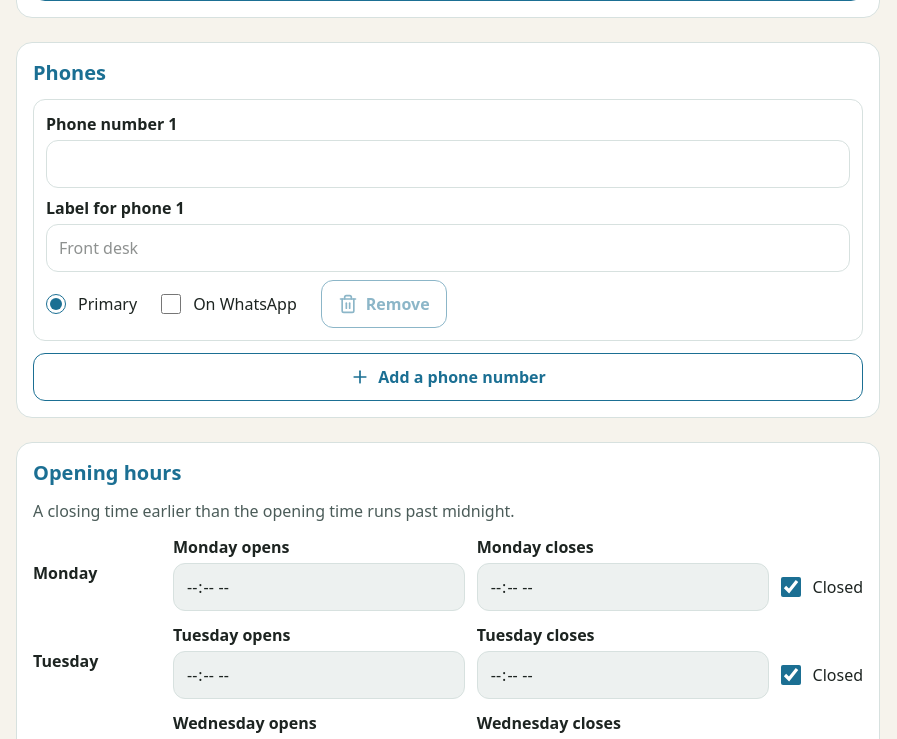
Test case: phones, services and the position › adds and removes phone rows, keeps one row, and moves the primary mark to the chosen row
(page scrolled)
Click the button "Add a phone number".
click(448, 377)  # box [33,353,863,401]
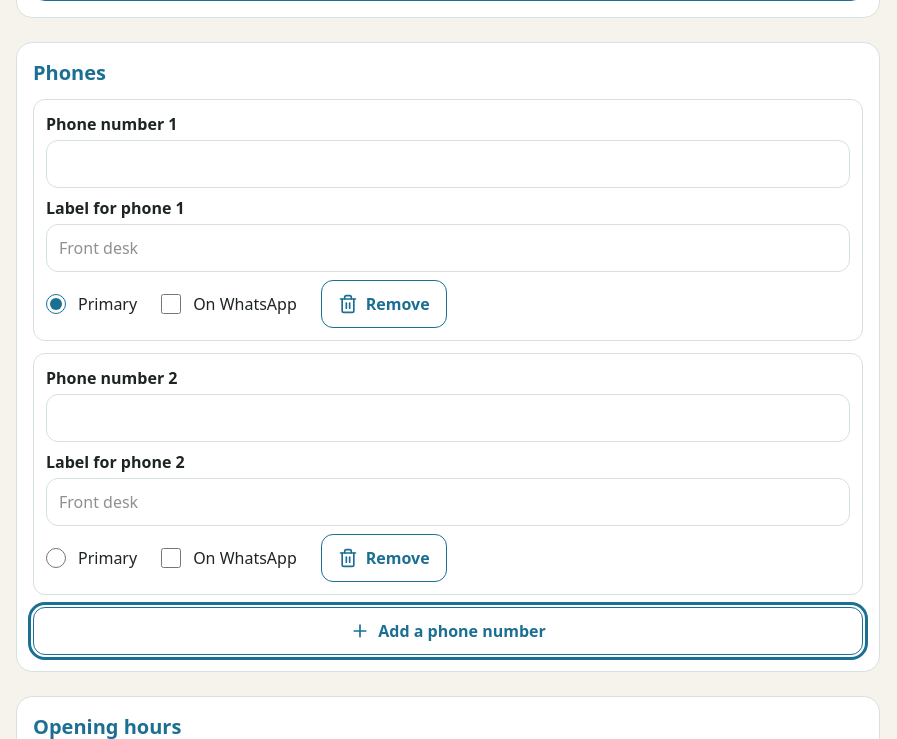
Click the radio button with aria-label "Phone 2 is primary".
click(56, 558)  # box [46,548,66,568]
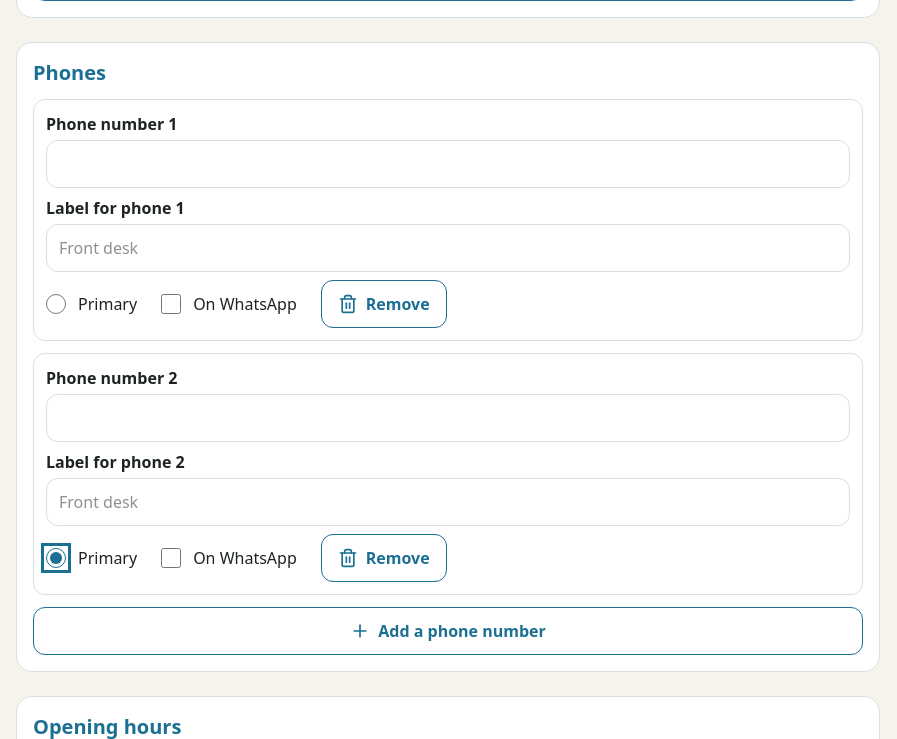
Result: the radio button with aria-label "Phone 2 is primary" is checked at [46,548,66,568]
Result: the radio button with aria-label "Phone 1 is primary" is not checked at [46,294,66,314]
Click the button with aria-label "Remove phone 2".
click(384, 558)  # box [321,534,447,582]
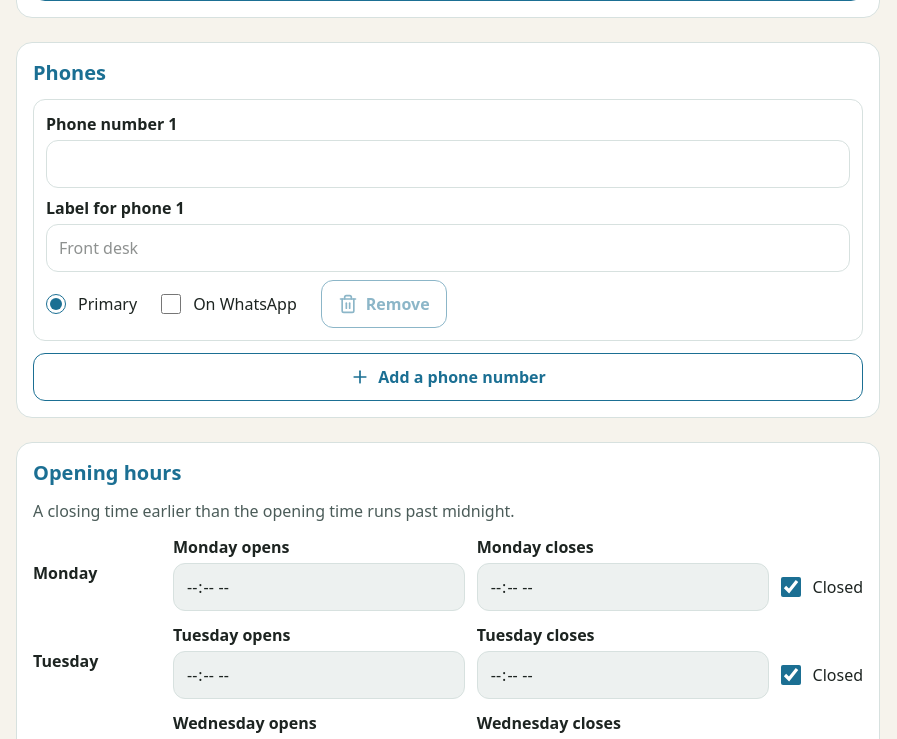
Result: the label labelled "Phone number 2" is gone
Result: the radio button with aria-label "Phone 1 is primary" is checked at [46,294,66,314]
Result: the button with aria-label "Remove phone 1" is disabled at [321,280,447,328]
